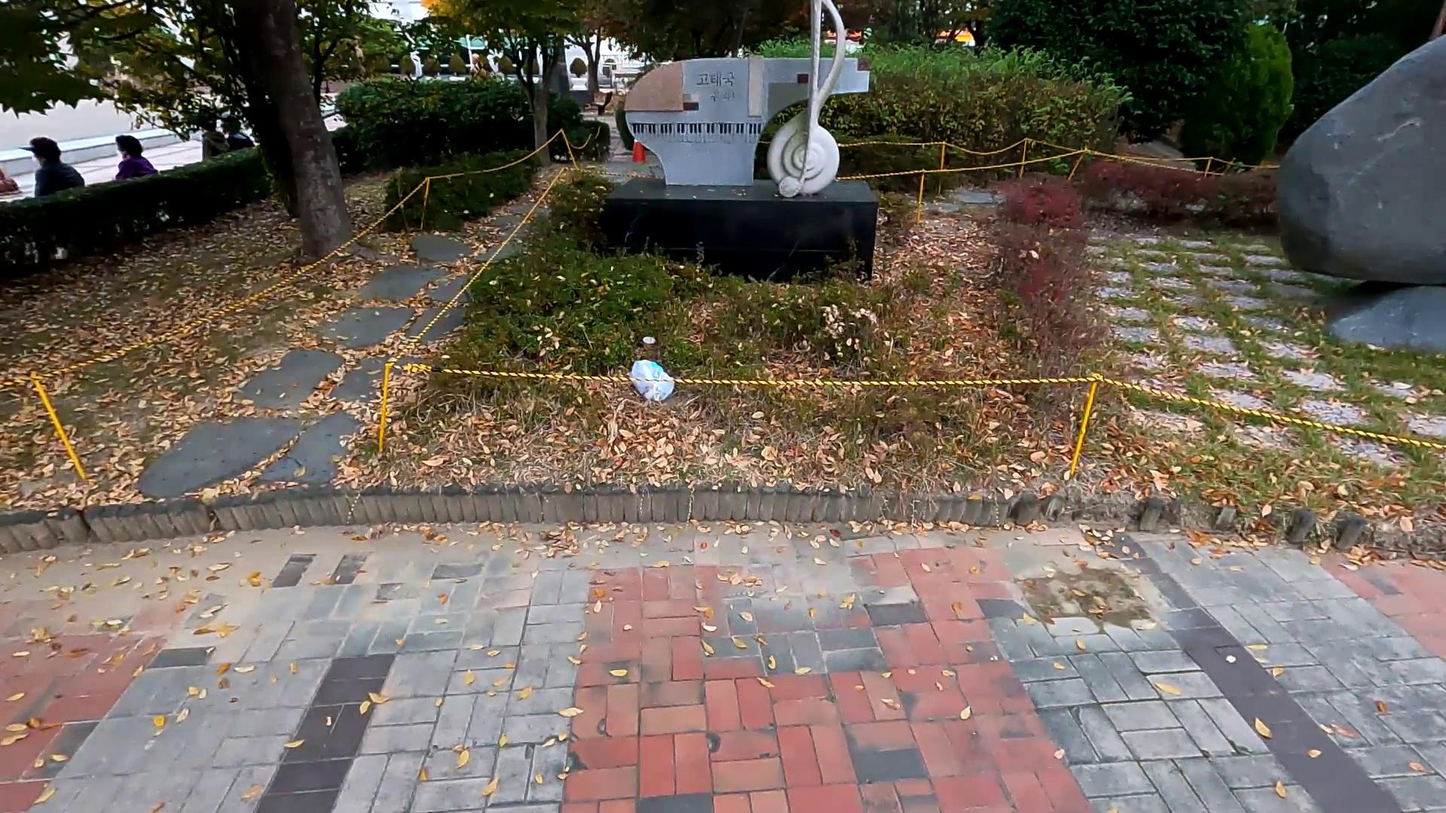person: (28, 136, 83, 227), (110, 132, 157, 200)
trash: (630, 357, 673, 399)
